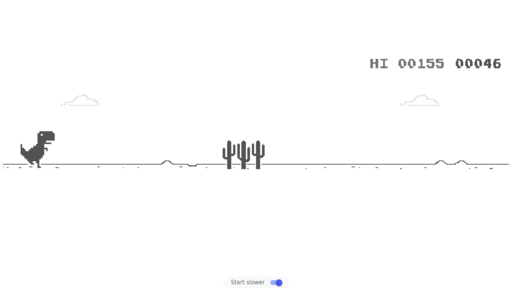dino: (20, 130, 55, 167)
tree: (223, 140, 266, 168)
